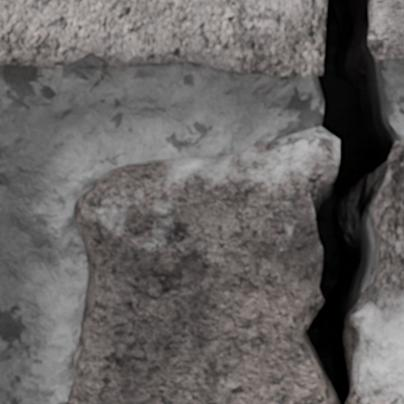broken_brick: (66, 125, 338, 403), (0, 0, 325, 77), (355, 140, 403, 403), (369, 0, 403, 61)
crack: (299, 0, 401, 403)
